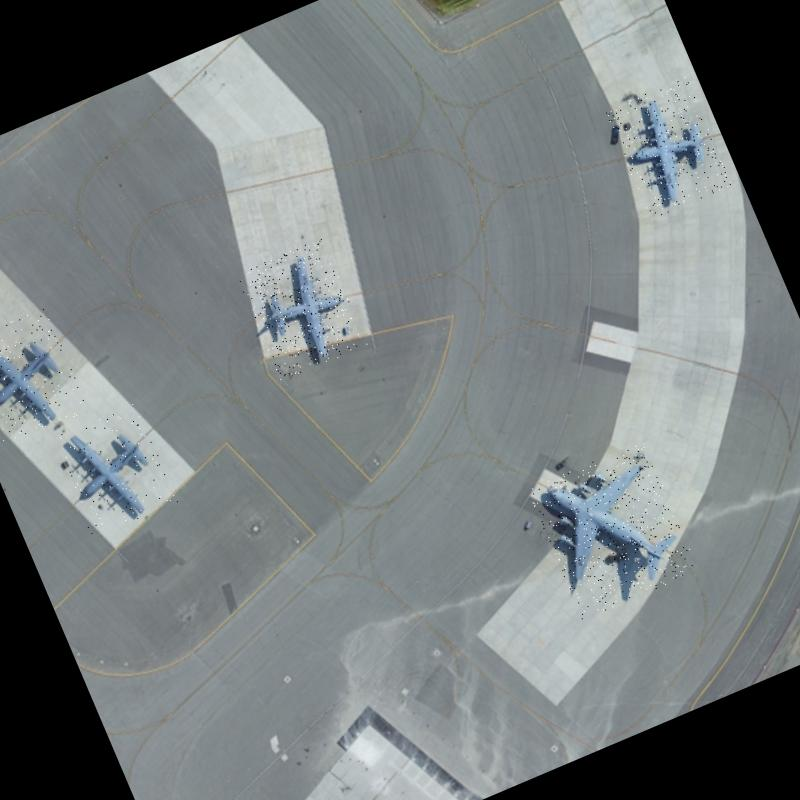A2: (236, 238, 368, 382), (604, 76, 732, 219), (50, 402, 178, 538), (0, 307, 89, 447)
A3: (528, 440, 700, 620)
